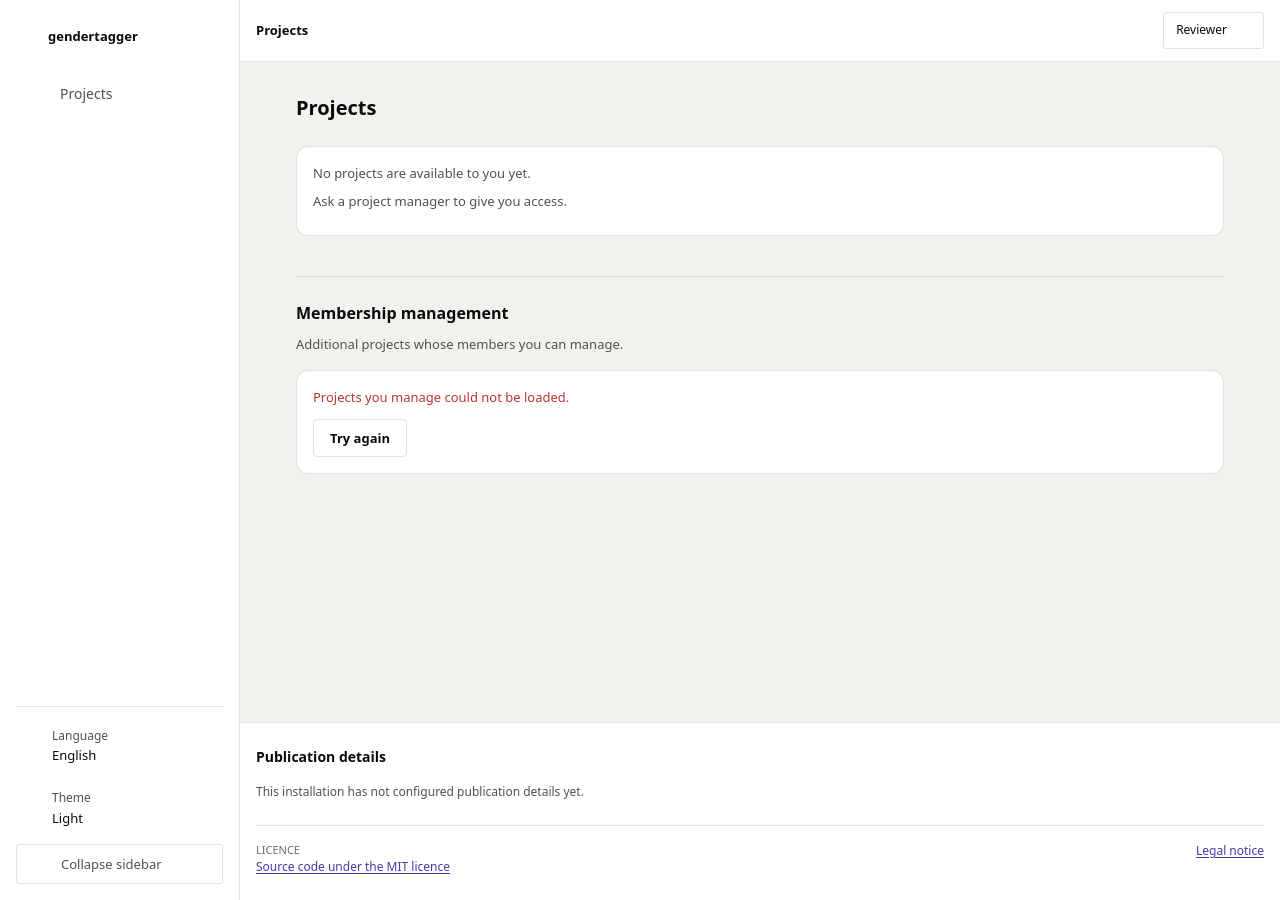
Test: desktop sidebar collapse in en › discards a late save after the initiating account signs out
The width and height of the screenshot is (1280, 900).
Step 1. Click the button with class "sidebar-collapse-button" → (120, 864), box [16,844,223,884]
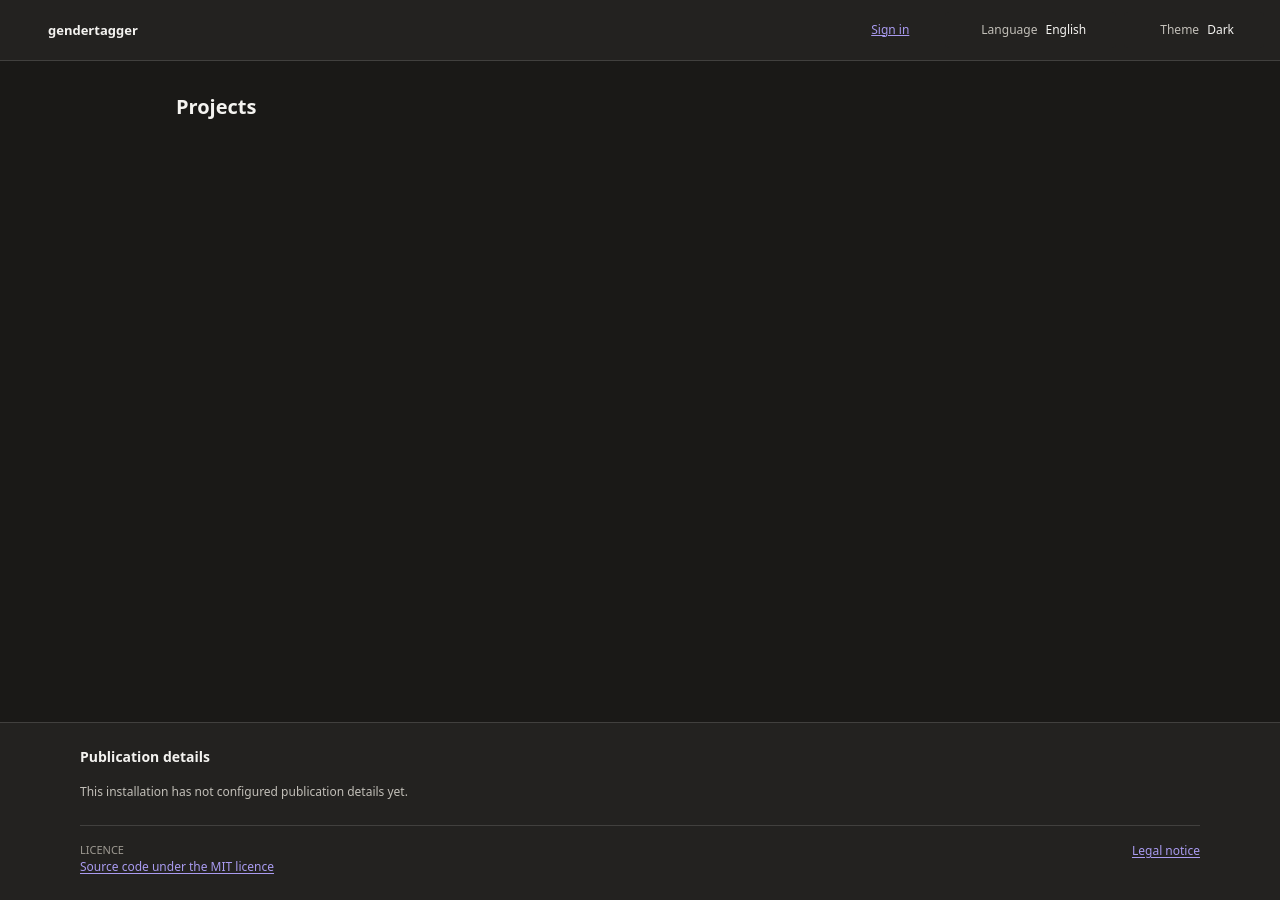
Expected: the link with class "app-header-brand" is shown, [48,21,138,39]
Now the element showing "Theme Dark" is shown, box [1124,12,1264,48]
